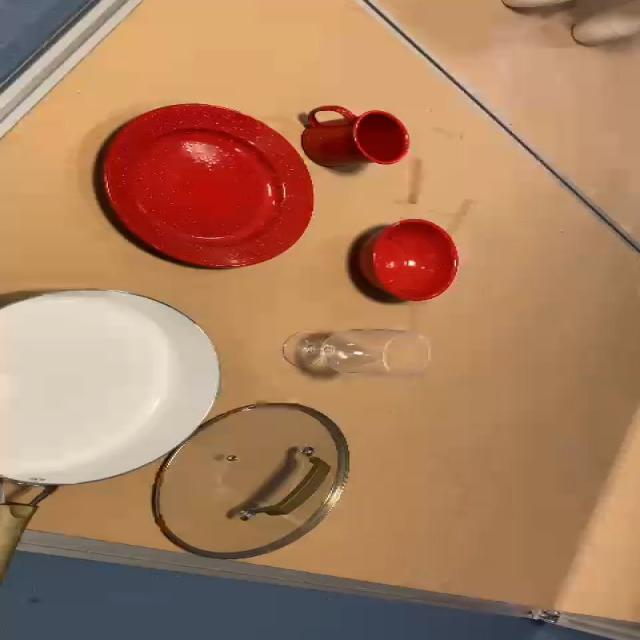Bowl: (352, 218, 470, 314)
Glass: (280, 326, 438, 392)
Plate: (95, 103, 310, 275)
cup: (304, 102, 418, 172)
pot: (0, 291, 225, 595)
